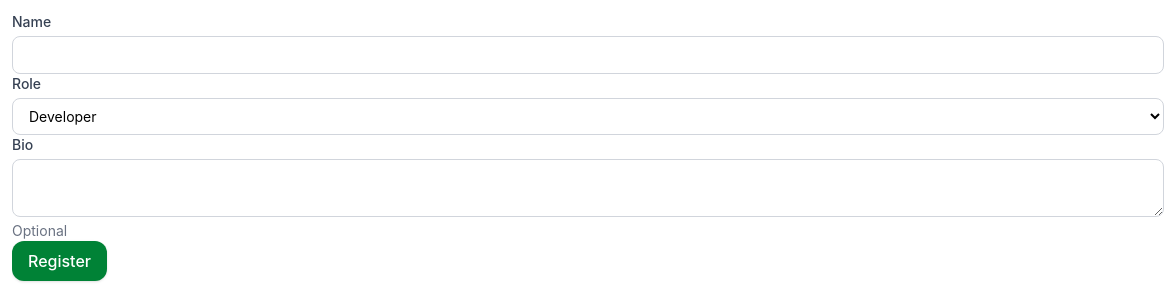
Scenario: Registration Form Integration › submits successfully with valid data
Type "Alice" into the field labelled "Name".
click(588, 55); type("Alice")  # box x1=12 y1=36 x2=1164 y2=74
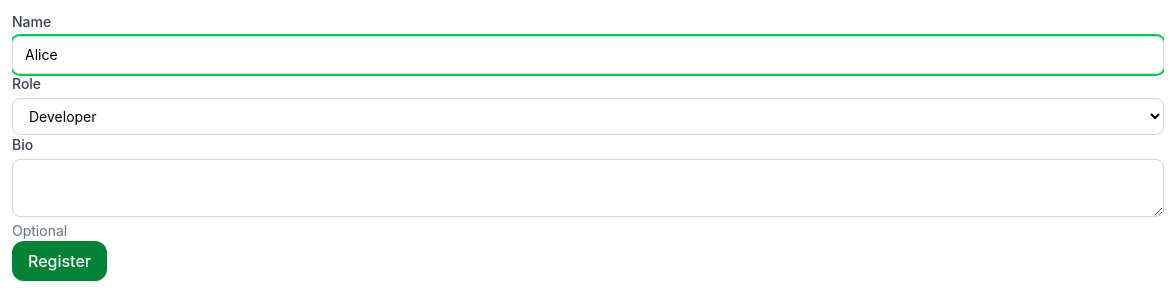
Select "Developer" in the dropdown labelled "Role" at (588, 116), box x1=12 y1=98 x2=1164 y2=135
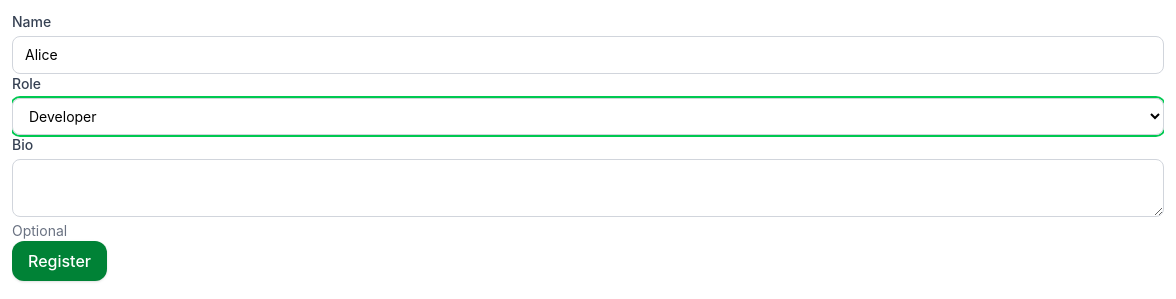
Type "Hello!" into the text box labelled "Bio".
click(588, 188); type("Hello!")  # box x1=12 y1=159 x2=1164 y2=217
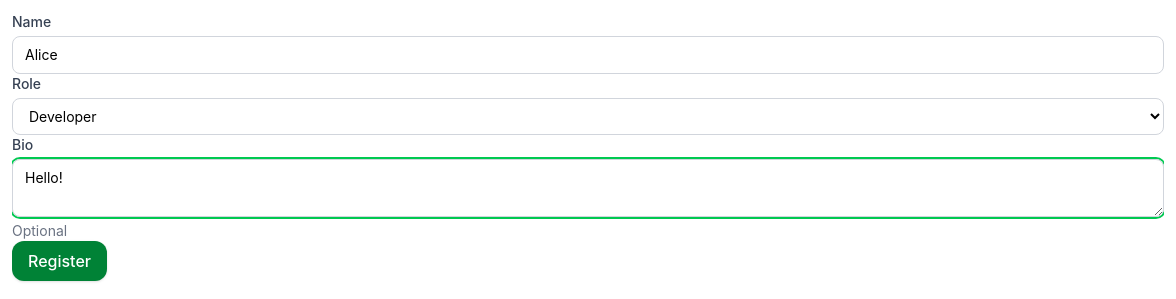
Click the button "Register".
click(60, 261)  # box x1=12 y1=241 x2=107 y2=281
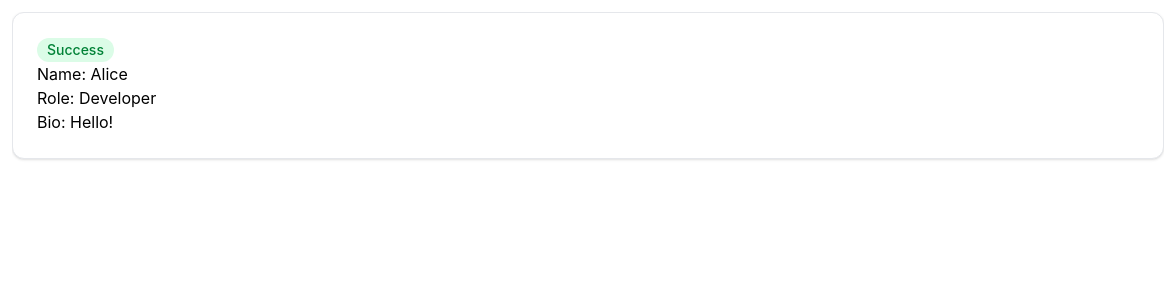
Check: the text "Success" is shown, box x1=37 y1=38 x2=114 y2=62
Check: the text "Name: Alice" is shown, box x1=37 y1=64 x2=128 y2=84
Check: the text "Role: Developer" is shown, box x1=37 y1=88 x2=156 y2=108
